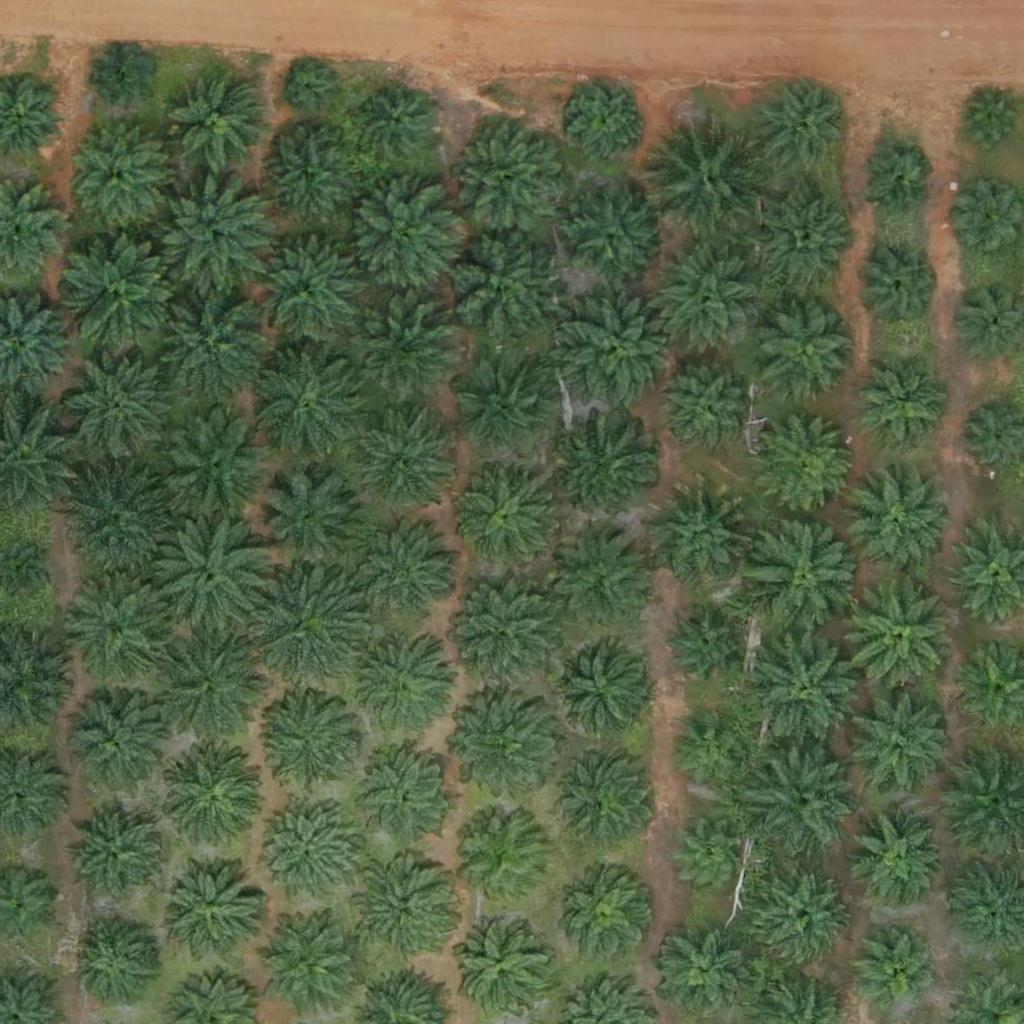Kelapa_Sawit: (60, 229, 185, 355), (56, 458, 181, 584), (143, 278, 268, 404), (153, 509, 278, 635), (248, 340, 373, 466), (243, 565, 368, 691), (448, 113, 573, 239), (436, 224, 561, 350), (441, 571, 566, 697), (556, 288, 681, 414), (647, 114, 772, 240), (643, 237, 768, 363), (745, 513, 870, 639), (745, 626, 870, 752), (837, 573, 962, 699), (149, 623, 274, 749), (244, 232, 369, 357), (157, 178, 270, 291), (158, 410, 271, 523), (253, 466, 366, 579), (352, 520, 465, 633), (747, 743, 860, 856), (444, 695, 557, 808), (340, 628, 453, 741), (65, 573, 177, 687), (59, 347, 171, 460), (346, 181, 458, 294), (347, 293, 459, 406), (68, 124, 168, 225), (168, 72, 268, 173), (257, 126, 357, 227), (456, 360, 556, 461), (457, 461, 557, 562), (564, 416, 664, 517), (552, 521, 652, 622), (655, 484, 755, 585), (846, 806, 946, 907), (752, 864, 852, 965), (548, 638, 648, 739), (550, 750, 650, 851), (558, 862, 658, 963), (453, 807, 553, 908), (355, 748, 455, 849), (353, 859, 453, 960), (256, 692, 356, 793), (562, 185, 662, 285), (752, 77, 852, 177), (756, 193, 856, 293), (756, 300, 856, 400), (758, 417, 858, 517), (849, 473, 949, 573), (851, 692, 951, 792), (258, 801, 358, 901), (257, 912, 357, 1012), (161, 750, 261, 850), (161, 860, 261, 960), (61, 694, 161, 794), (68, 807, 168, 907), (452, 921, 551, 1022), (359, 416, 447, 504), (858, 363, 946, 451), (853, 242, 940, 330), (664, 367, 751, 455), (65, 919, 152, 1007), (569, 82, 644, 158), (857, 142, 932, 218), (674, 817, 749, 892), (673, 713, 748, 788), (360, 85, 435, 160), (666, 610, 741, 685), (855, 936, 930, 1011), (90, 47, 153, 110), (960, 90, 1022, 153), (285, 64, 335, 114)
